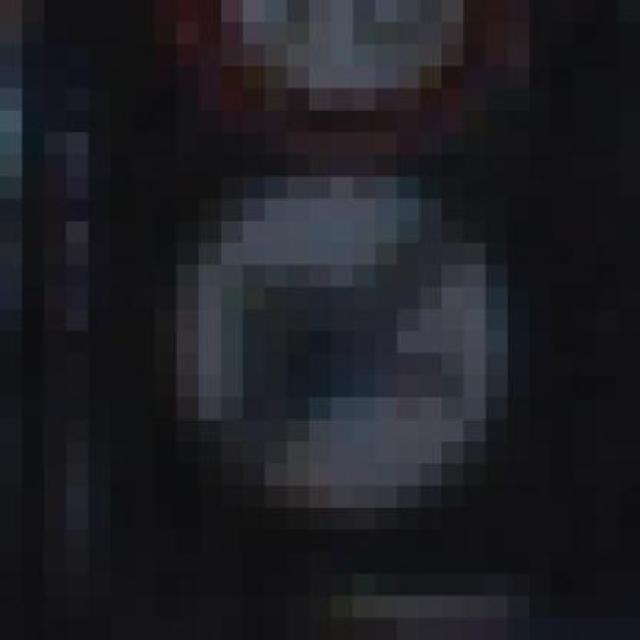Overtaking by trucks is prohibited: (66, 132, 619, 530)
